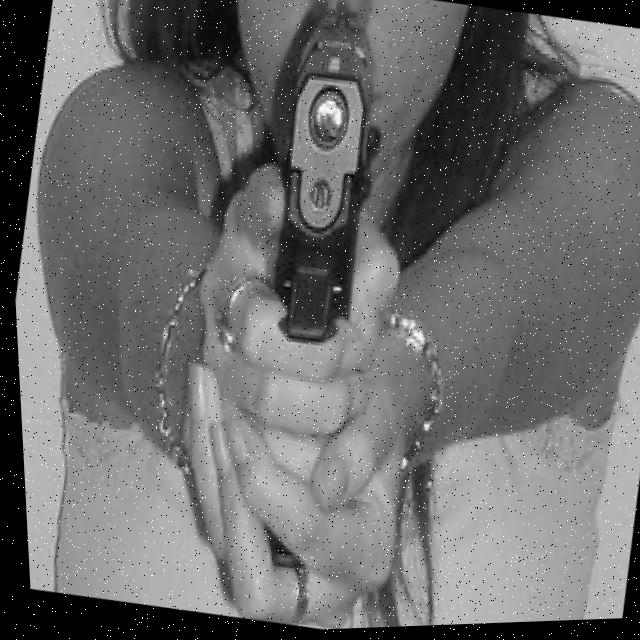pistol: (238, 0, 400, 356)
